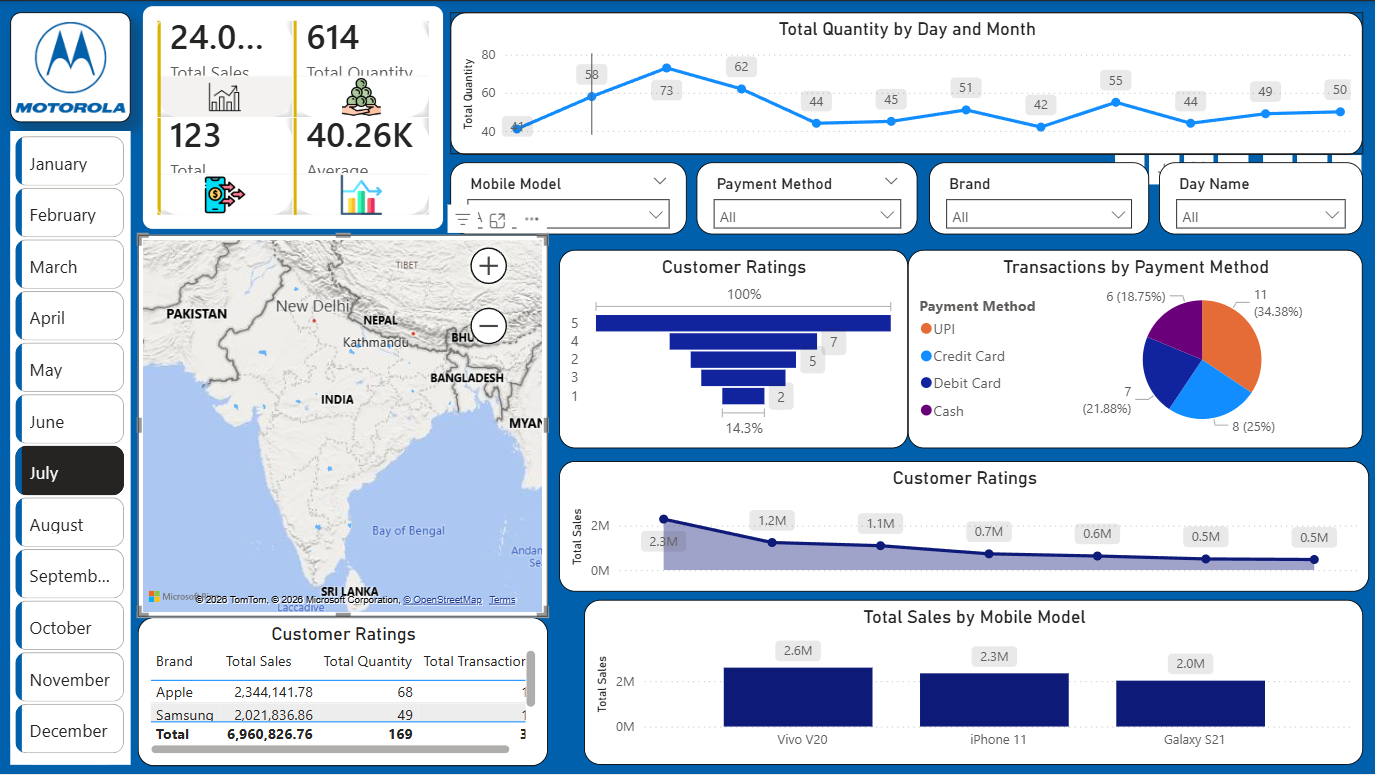

This screenshot's page, from the dashboard's own definition file:
{"tool":"powerbi","page":{"name":"Page 1","canvas":[1280,720],"ordinal":0},"visuals":[{"type":"shape","box":[10.5,10.5,111.6,102.3],"z":0},{"type":"image","box":[10.5,10.5,111.6,102.3],"z":1000},{"type":"shape","box":[10.5,120.9,111.6,589.5],"z":2000},{"type":"advancedSlicerVisual","fields":{"Values":["Sales_Data.Date.Variation.Date Hierarchy.Month"]},"box":[10.5,120.9,111.6,589.5],"z":3000},{"type":"cardVisual","fields":{"Data":["Sales_Data.Total Sales","Sales_Data.Total Quantity","Sales_Data.Total Transactions","Sales_Data.Average"]},"box":[129.1,0,290.7,231.4],"z":4000},{"type":"filledMap","fields":{"Category":["Sales_Data.City"]},"box":[129.1,231.4,381.4,341.9],"z":5000},{"type":"lineChart","title":"Total Quantity by Day and Month","fields":{"Y":["Sales_Data.Total Quantity"],"Category":["Sales_Data.Date.Variation.Date Hierarchy.Month","Sales_Data.Date.Variation.Date Hierarchy.Day"]},"box":[419.8,10.5,848.8,132.6],"z":6000},{"type":"clusteredColumnChart","fields":{"Category":["Sales_Data.Mobile Model"],"Y":["Sales_Data.Total Sales"]},"box":[543.8,557.5,725,153.8],"z":7000},{"type":"pieChart","title":"Transactions by Payment Method","fields":{"Category":["Sales_Data.Payment Method"],"Y":["Sales_Data.Total Transactions"]},"box":[845.4,231.4,423.3,184.9],"z":8000},{"type":"funnel","title":"Customer Ratings ","fields":{"Category":["Sales_Data.Customer Ratings","Sales_Data.Mobile Model"],"Y":["CountNonNull(Sales_Data.Customer Ratings)"]},"box":[520.9,231.4,324.4,184.9],"z":9000},{"type":"areaChart","title":"Customer Ratings ","fields":{"Category":["Sales_Data.Day Name"],"Y":["Sales_Data.Total Sales"]},"box":[521.2,427.5,753.8,121.2],"z":10000},{"type":"tableEx","title":"Customer Ratings ","fields":{"Values":["Sales_Data.Brand","Sales_Data.Total Sales","Sales_Data.Total Quantity","Sales_Data.Total Transactions"]},"box":[129.1,573.3,381.4,138.4],"z":11000},{"type":"slicer","fields":{"Values":["Sales_Data.Mobile Model"]},"box":[419.8,150,219.8,67.4],"z":12000},{"type":"slicer","fields":{"Values":["Sales_Data.Payment Method"]},"box":[648.8,150,205.8,67.4],"z":13000},{"type":"slicer","fields":{"Values":["Sales_Data.Brand"]},"box":[865.1,150,204.7,67.4],"z":14000},{"type":"slicer","fields":{"Values":["Sales_Data.Day Name"]},"box":[1079.1,150,189.5,67.4],"z":15000}]}

Visuals, with their boxes in screenshot pixels (x1, y1, x2, y2), scaled from the page's 1280x720 canvas onto the 1375x775 screenshot:
shape: 11, 11, 131, 121
image: 11, 11, 131, 121
shape: 11, 130, 131, 765
advancedSlicerVisual - Sales_Data.Date.Variation.Date Hierarchy.Month: 11, 130, 131, 765
cardVisual - Sales_Data.Total Sales x Sales_Data.Total Quantity: 139, 0, 451, 249
filledMap - Sales_Data.City: 139, 249, 548, 617
"Total Quantity by Day and Month" lineChart: 451, 11, 1363, 154
clusteredColumnChart - Sales_Data.Mobile Model x Sales_Data.Total Sales: 584, 600, 1363, 766
"Transactions by Payment Method" pieChart: 908, 249, 1363, 448
"Customer Ratings " funnel: 560, 249, 908, 448
"Customer Ratings " areaChart: 560, 460, 1370, 591
"Customer Ratings " tableEx: 139, 617, 548, 766
slicer - Sales_Data.Mobile Model: 451, 161, 687, 234
slicer - Sales_Data.Payment Method: 697, 161, 918, 234
slicer - Sales_Data.Brand: 929, 161, 1149, 234
slicer - Sales_Data.Day Name: 1159, 161, 1363, 234
